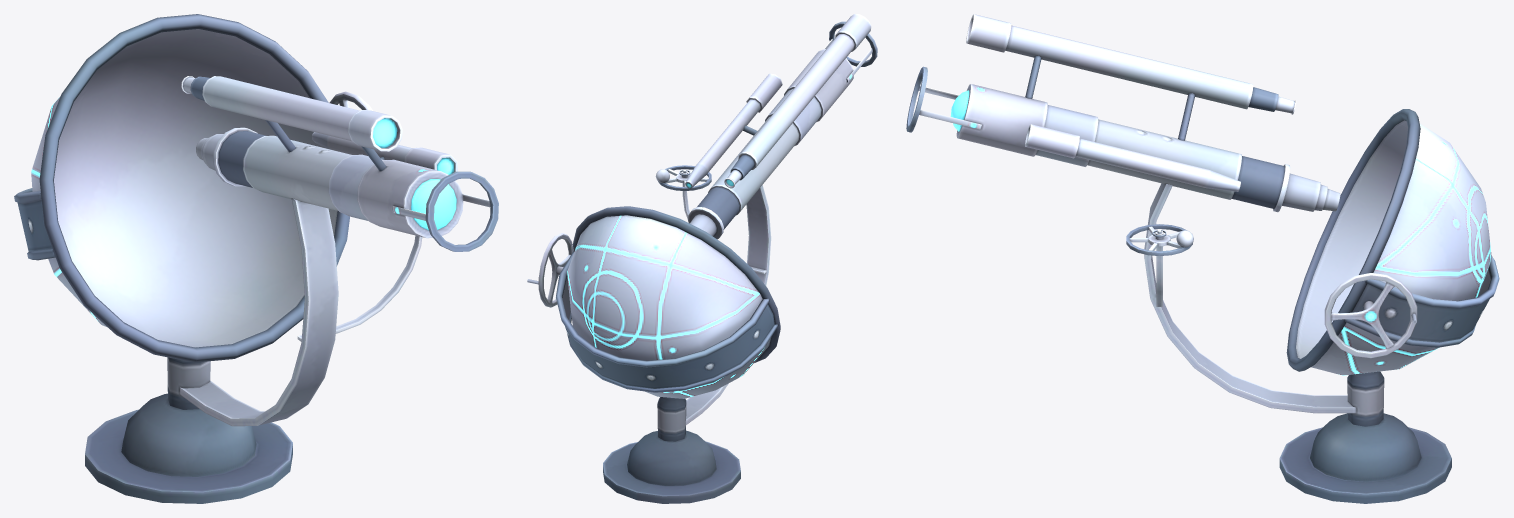
The model's file is obj_stargazer.gltf.
3 views of the same model, side by side, from view 1: azimuth 30°, elevation 25°; view 2: azimuth 150°, elevation 25°; view 3: azimuth 270°, elevation 25° (orthographic). The views are drawn at different scales.
Visible parts, largest first — view 1: obj_stargazer; view 2: obj_stargazer; view 3: obj_stargazer.
Boxes of the visible parts, bbox=[...] form: obj_stargazer: bbox=[14, 14, 498, 503]; obj_stargazer: bbox=[527, 14, 877, 503]; obj_stargazer: bbox=[906, 14, 1499, 503].
Size of what is drawn, in the model's own units: 1.48 by 2.21 by 2.73.
1 material, 1 textured.
